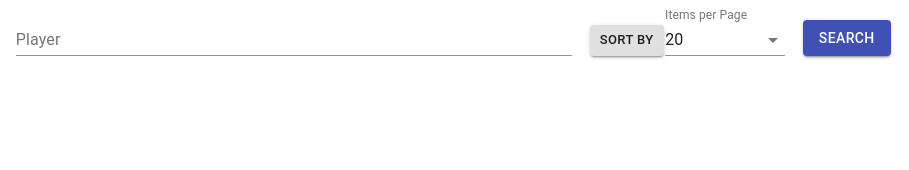
Test case: Clicks the item per page select
Expected: the element with test id "itemPerPage" is shown, [665, 24, 785, 56]
Press the mouse on the button "20" at (674, 40), box [665, 30, 683, 49]
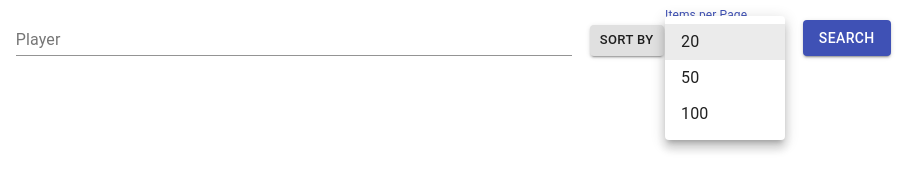
Expected: the option "50" is shown, [681, 68, 699, 87]
Expected: the option "100" is shown, [681, 104, 708, 123]
